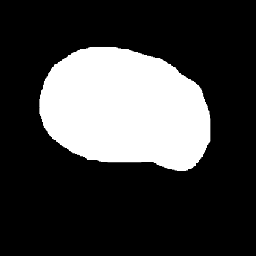mass: (39, 45, 208, 170)
